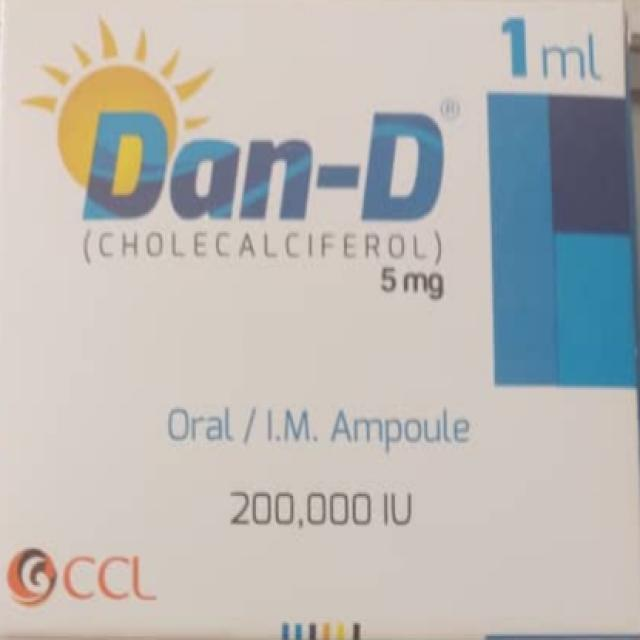drug-name: (78, 104, 444, 228)
